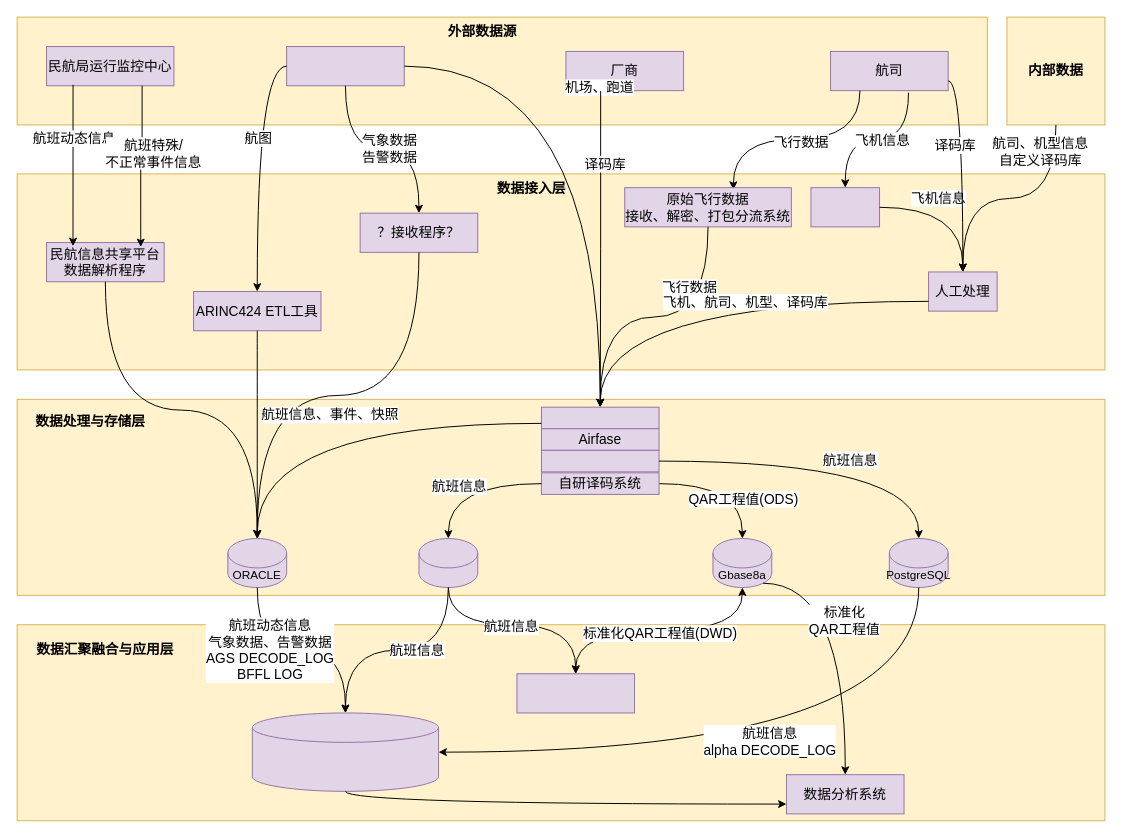
The diagram is 1122 pixels wide and 838 high, and some of its shapes have lost their labels. The shapes that lost their labels are listed below. From the top down, each one's centre as x and y in pixels, then its label:
point (345, 66): 中宇
point (845, 207): 门户系统
point (599, 417): AGS
point (599, 460): alpha
point (448, 563): Gbase8s
point (575, 693): 数据管理系统
point (345, 751): ORACLE 数据仓库
